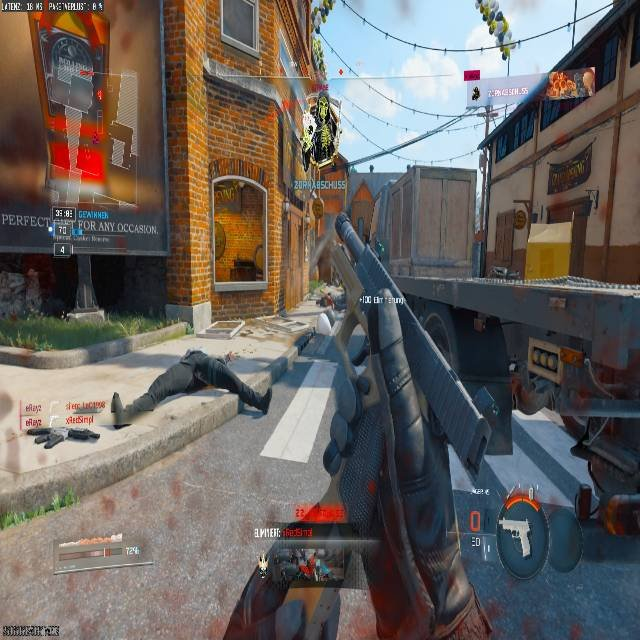player: (316, 290, 334, 308)
